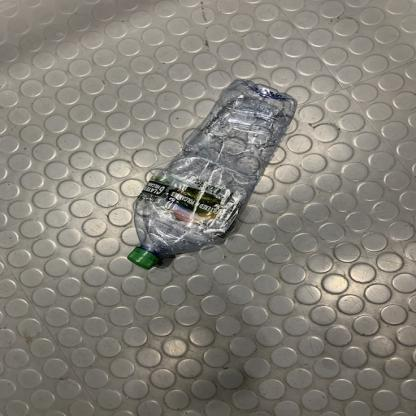trash: (127, 78, 299, 270)
